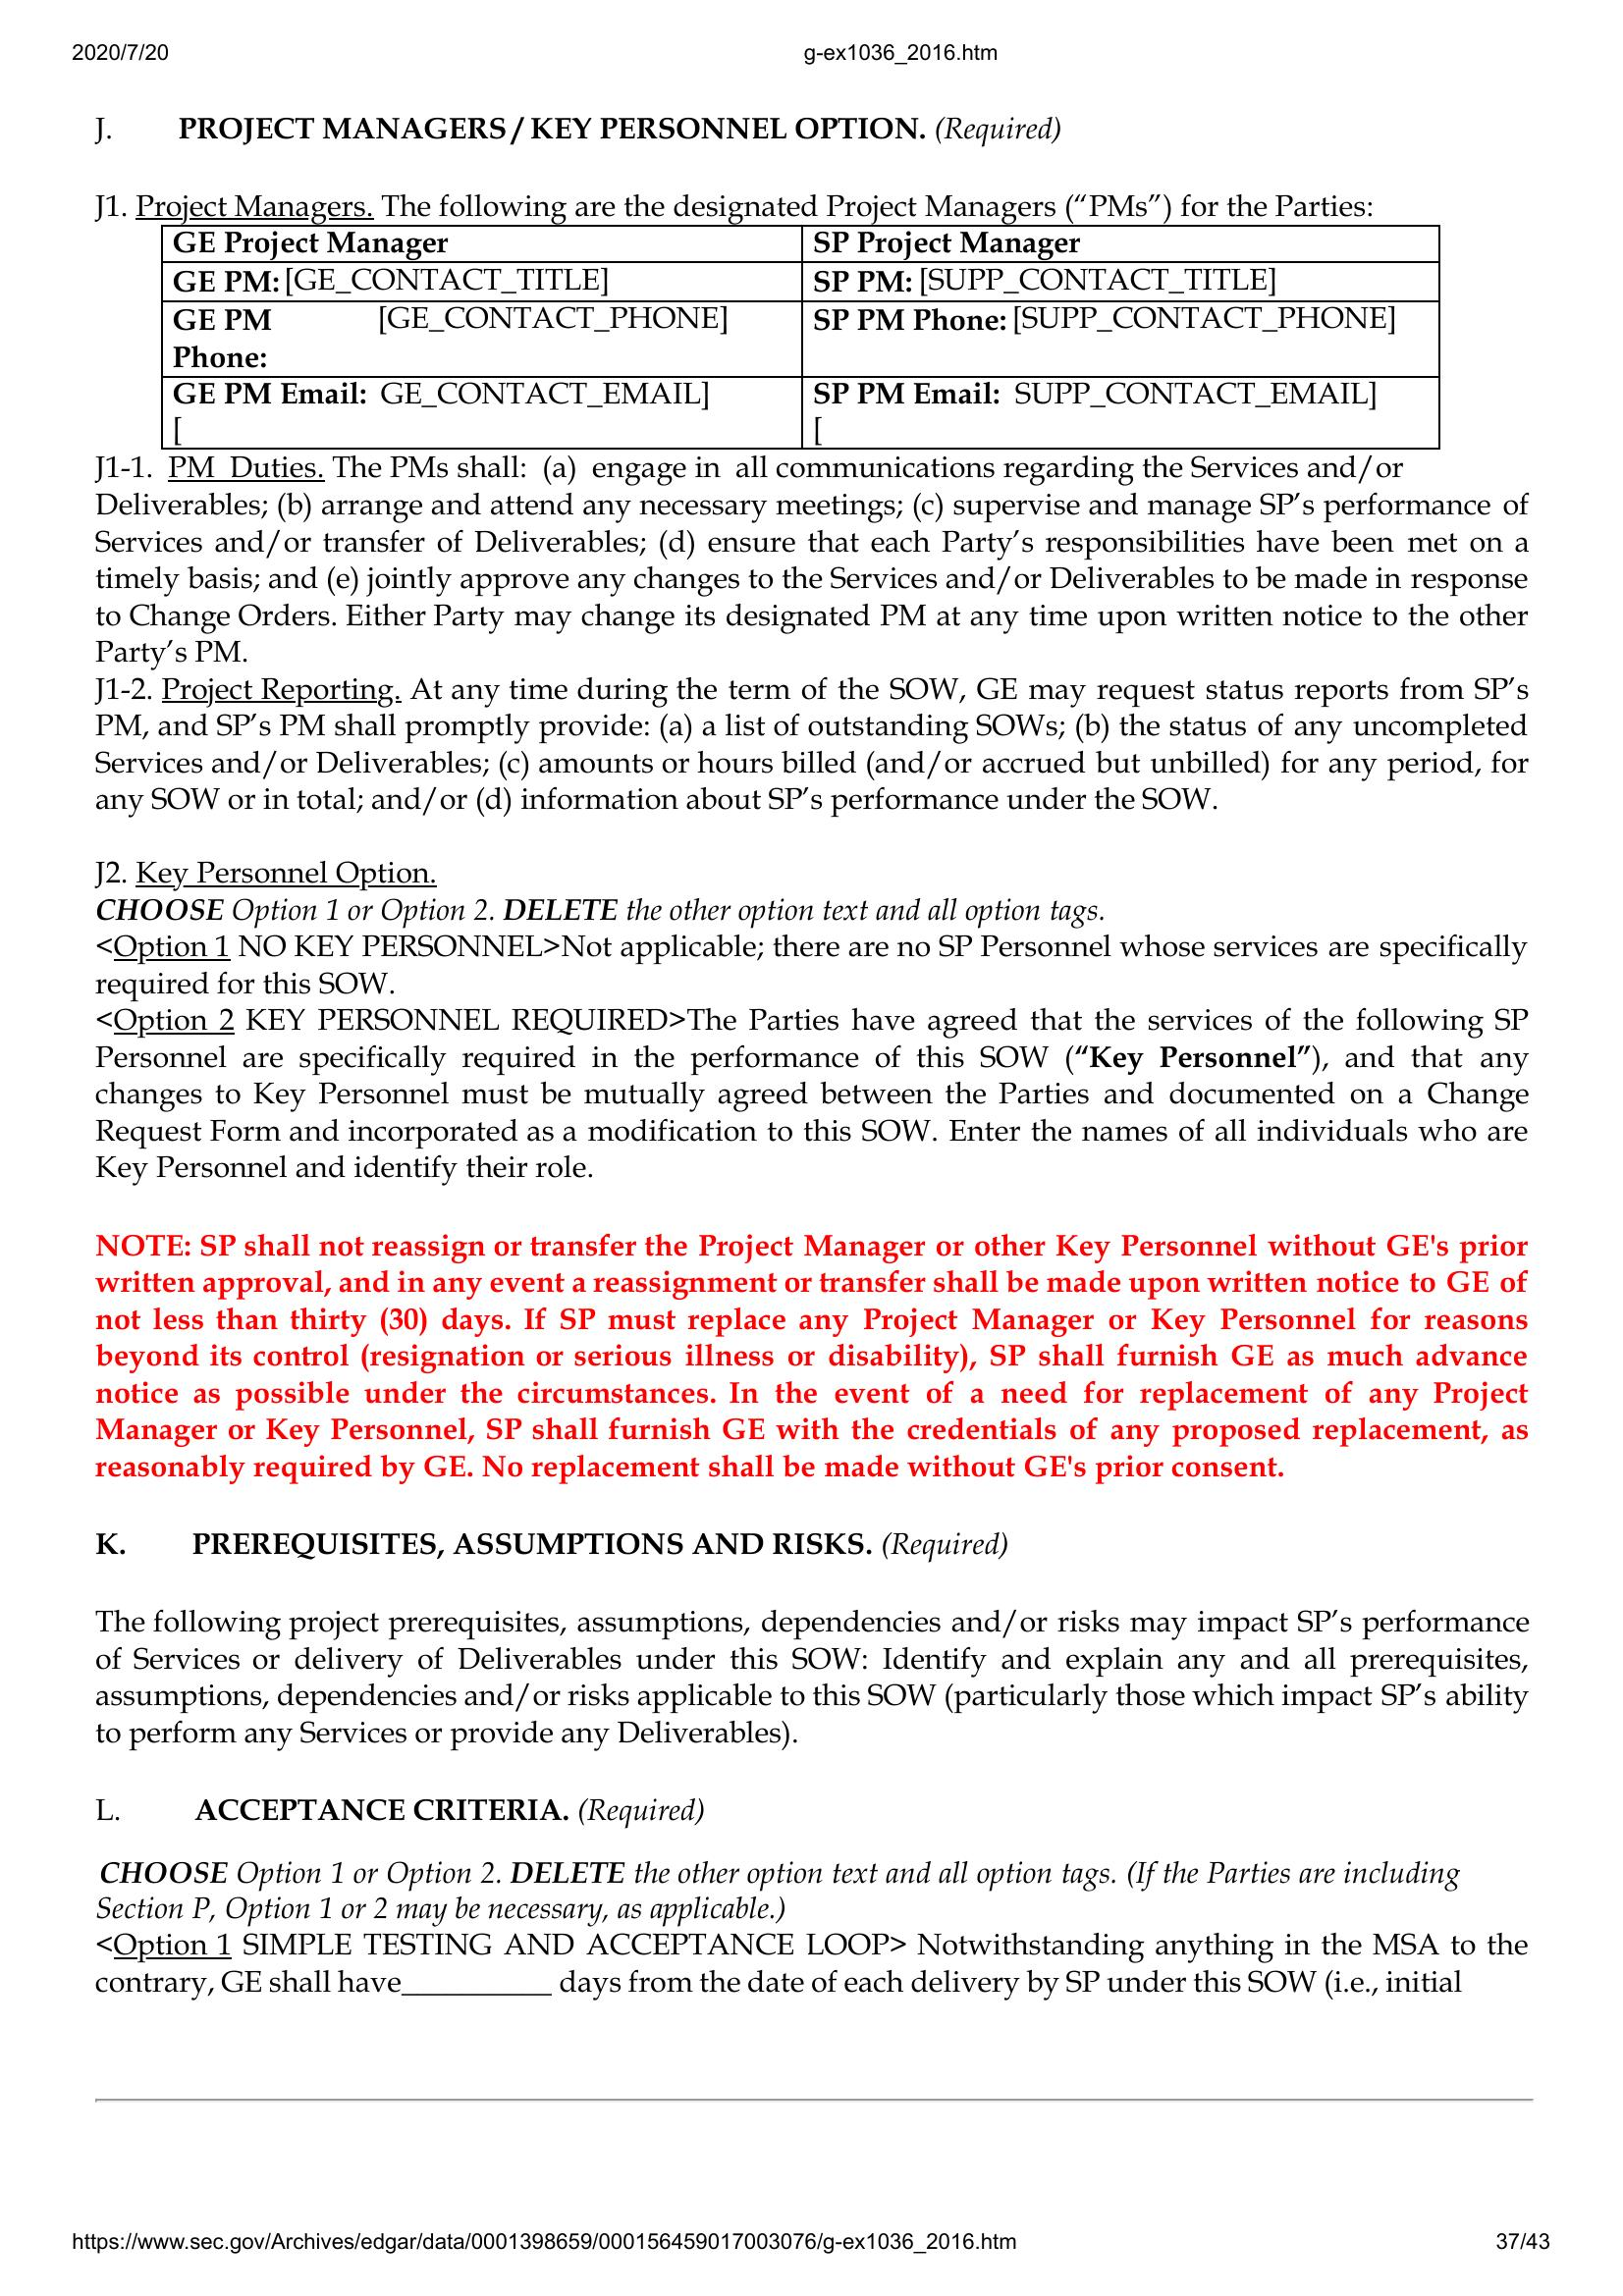table: (158, 219, 1449, 455)
